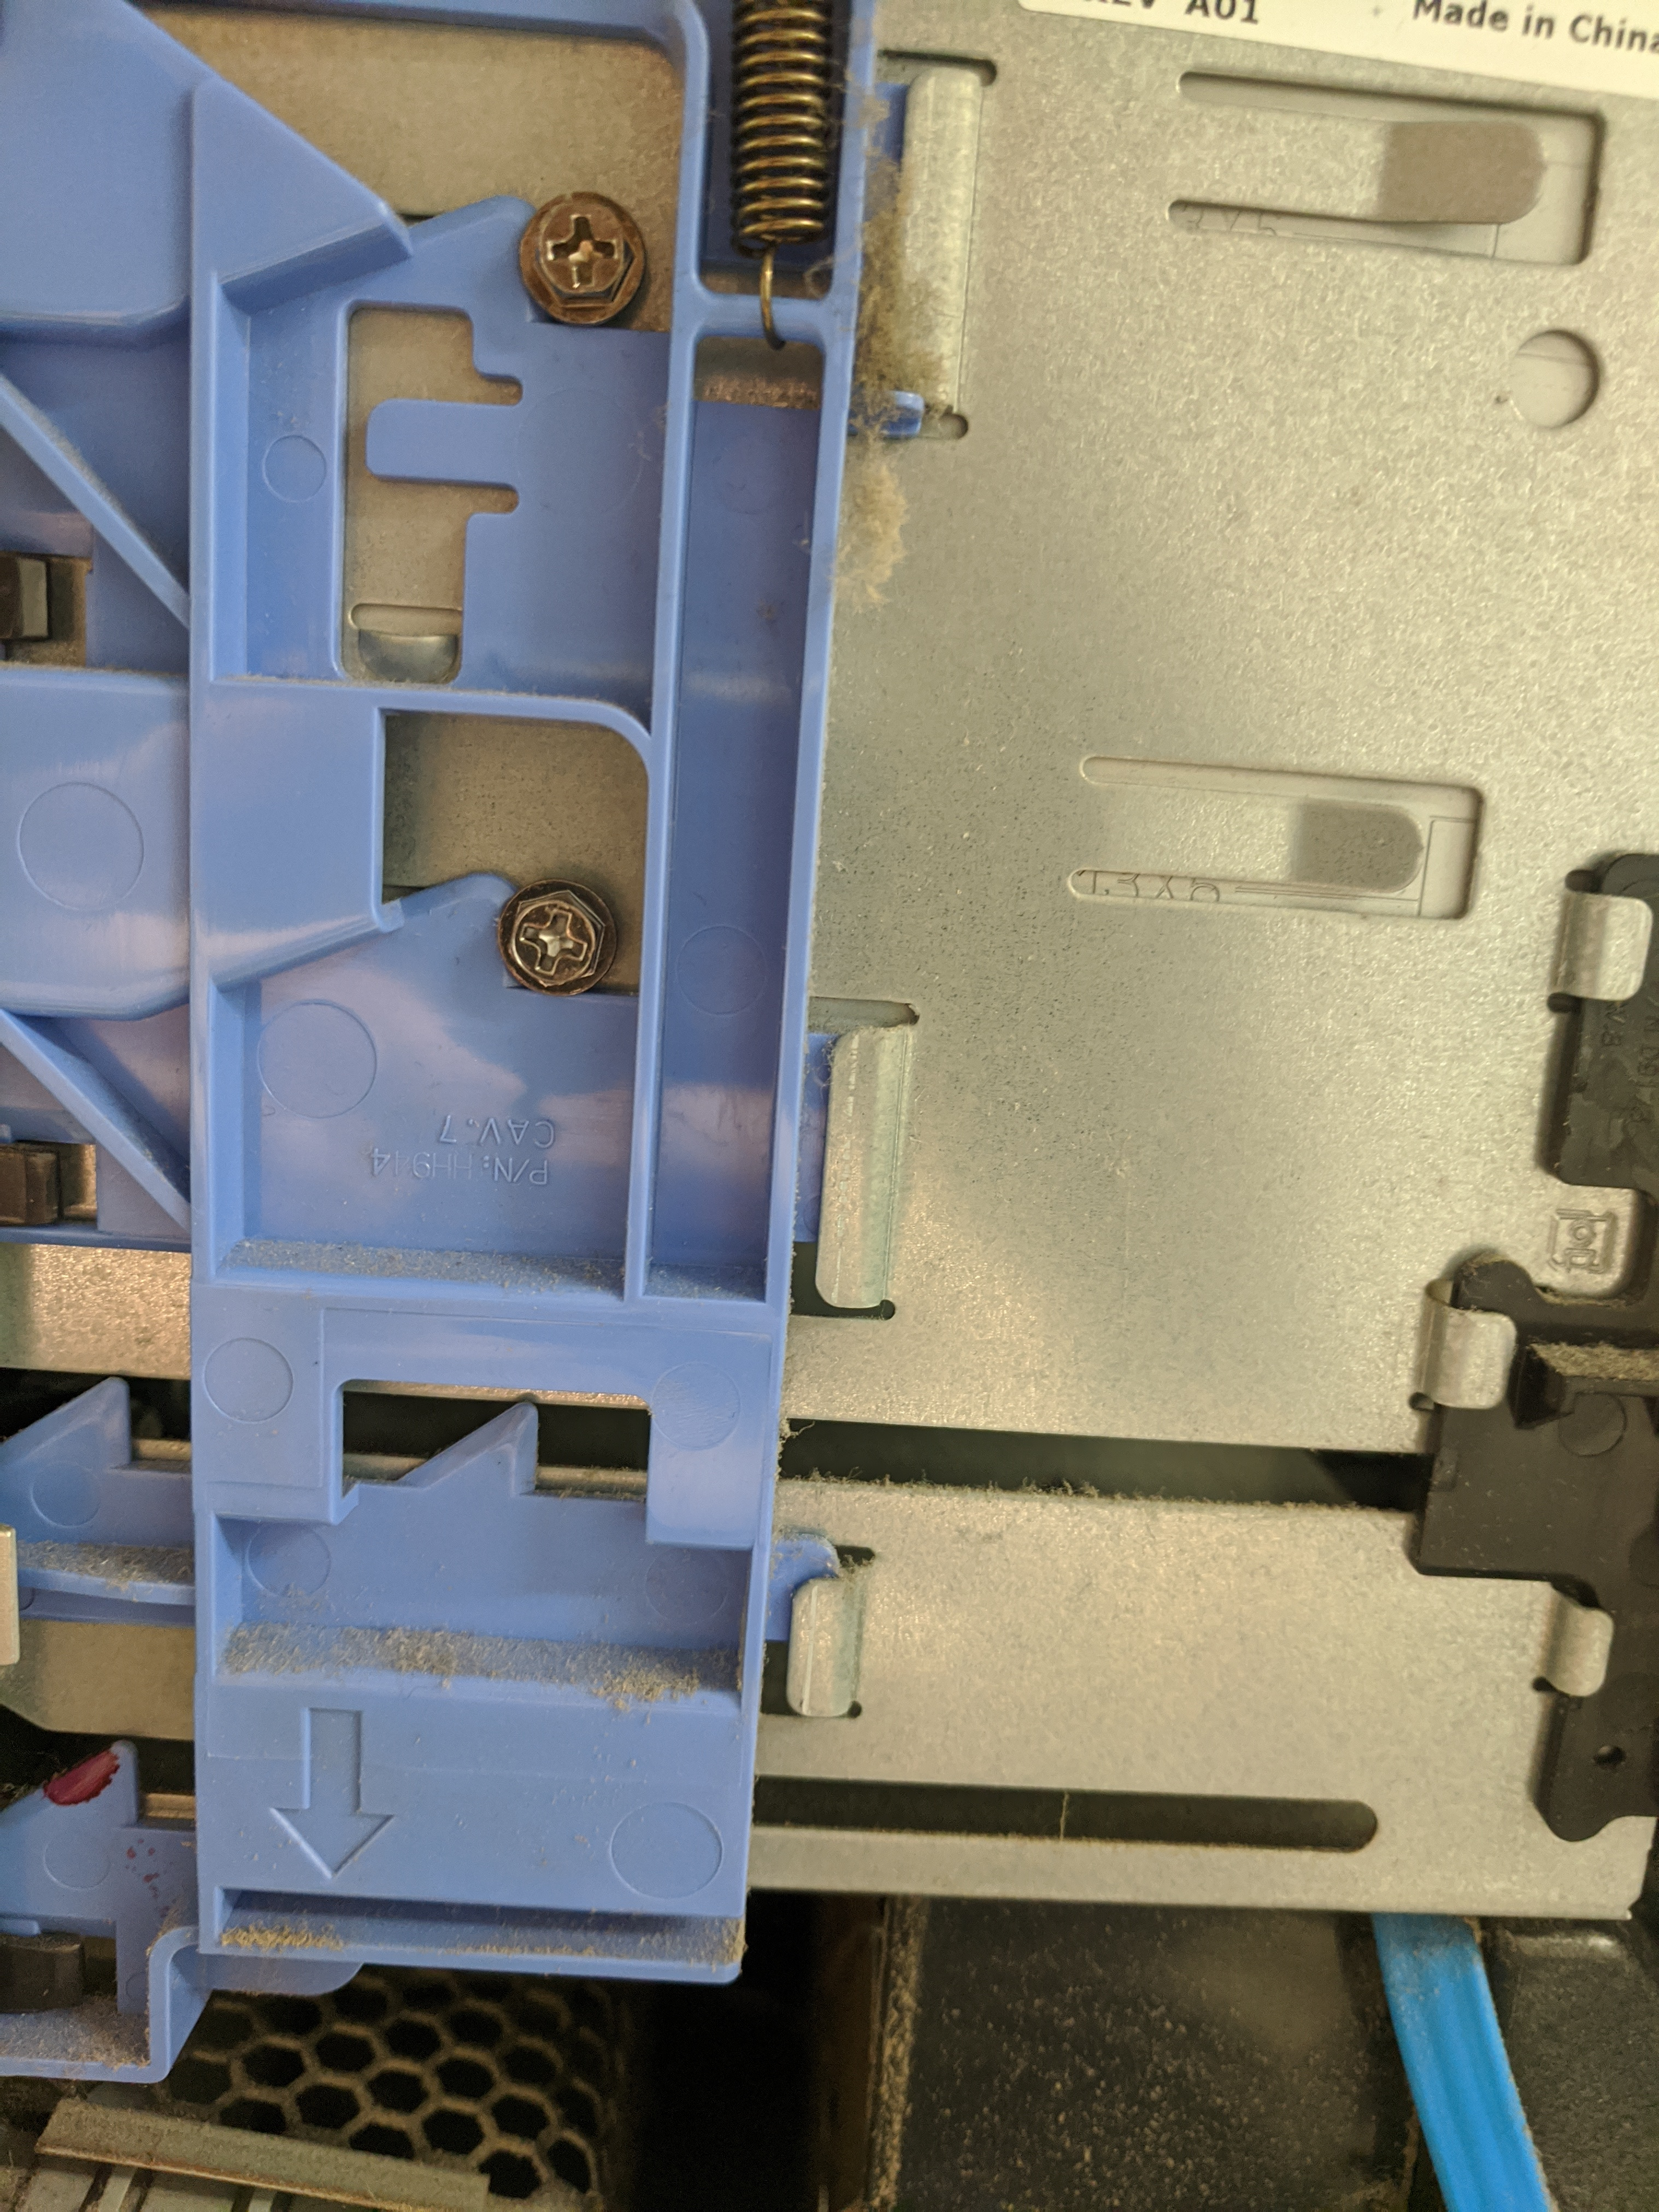cross_recessed_screw: (500, 873, 612, 1005), (521, 186, 629, 307)
